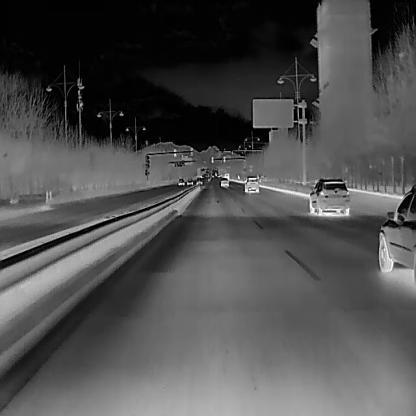car: (377, 183, 415, 279), (309, 177, 350, 216), (244, 172, 257, 193), (219, 179, 230, 187), (177, 177, 183, 185), (187, 177, 193, 185), (196, 177, 202, 185), (223, 171, 229, 179)
